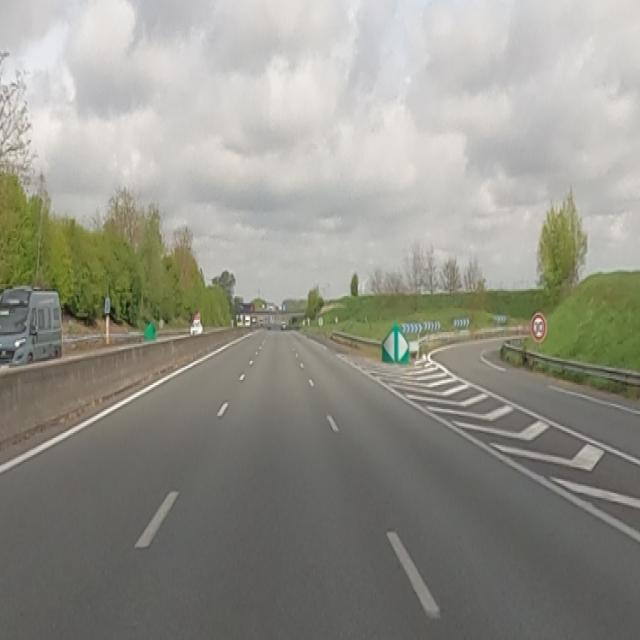speed_30: (531, 313, 547, 342)
